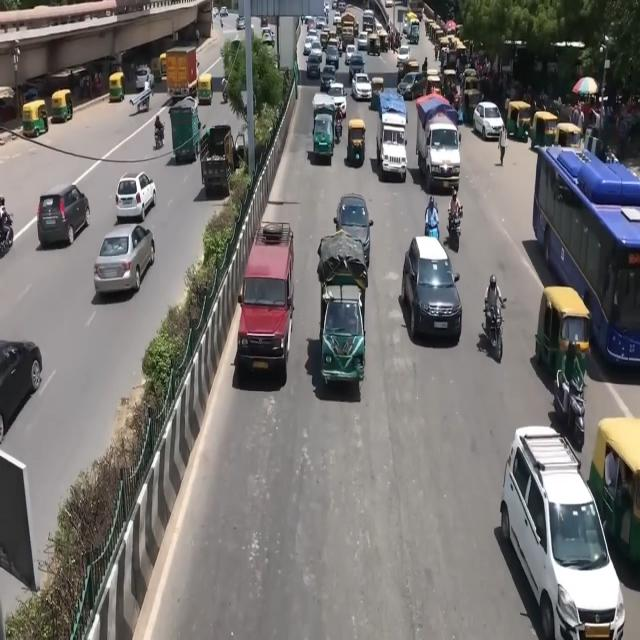auto: (587, 416, 640, 570), (534, 282, 590, 381), (318, 287, 366, 387), (312, 108, 336, 163), (530, 110, 558, 150), (506, 100, 532, 140), (22, 100, 48, 137), (346, 118, 366, 166), (50, 89, 73, 123), (556, 122, 583, 148), (197, 73, 213, 106), (108, 72, 125, 103), (151, 57, 163, 84), (159, 52, 167, 80)
bike-auto: (484, 292, 508, 358), (484, 292, 506, 352), (447, 204, 463, 249), (424, 196, 440, 238), (154, 115, 164, 148), (334, 110, 344, 141), (393, 34, 399, 54), (338, 40, 343, 56), (220, 17, 223, 28)
